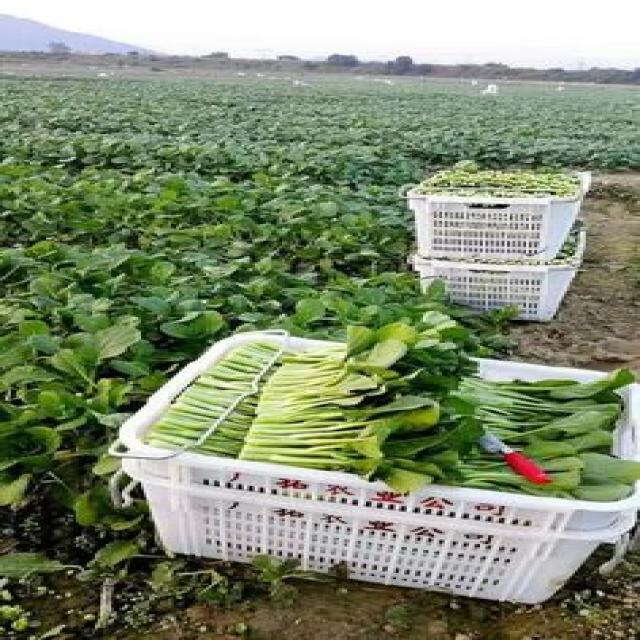basket: (409, 172, 591, 267), (411, 230, 586, 327)
